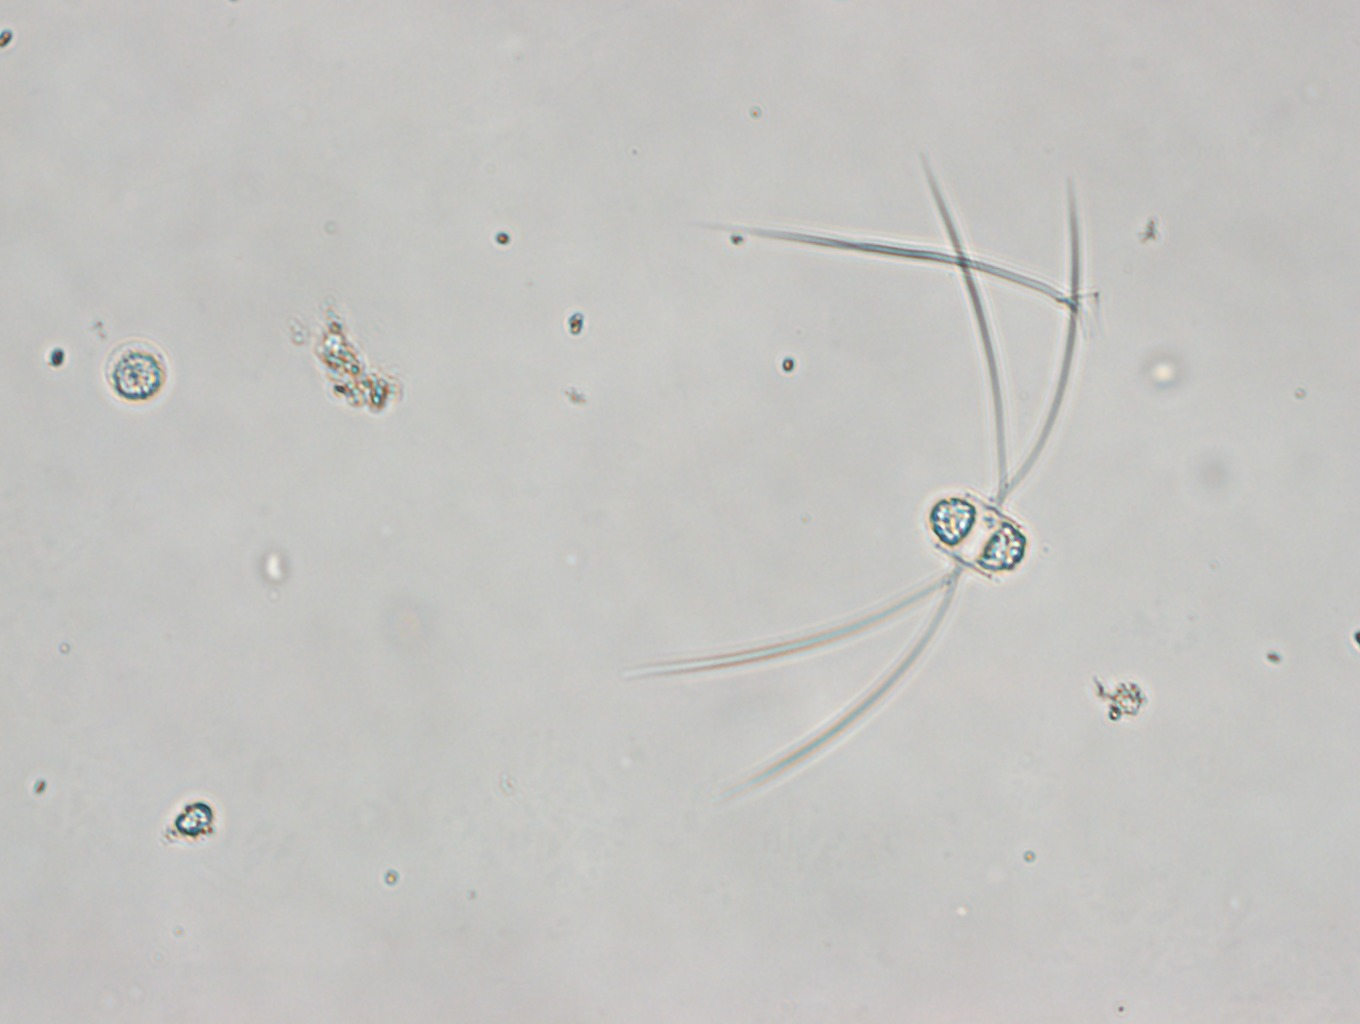chaetoceros: (612, 157, 1083, 807)
